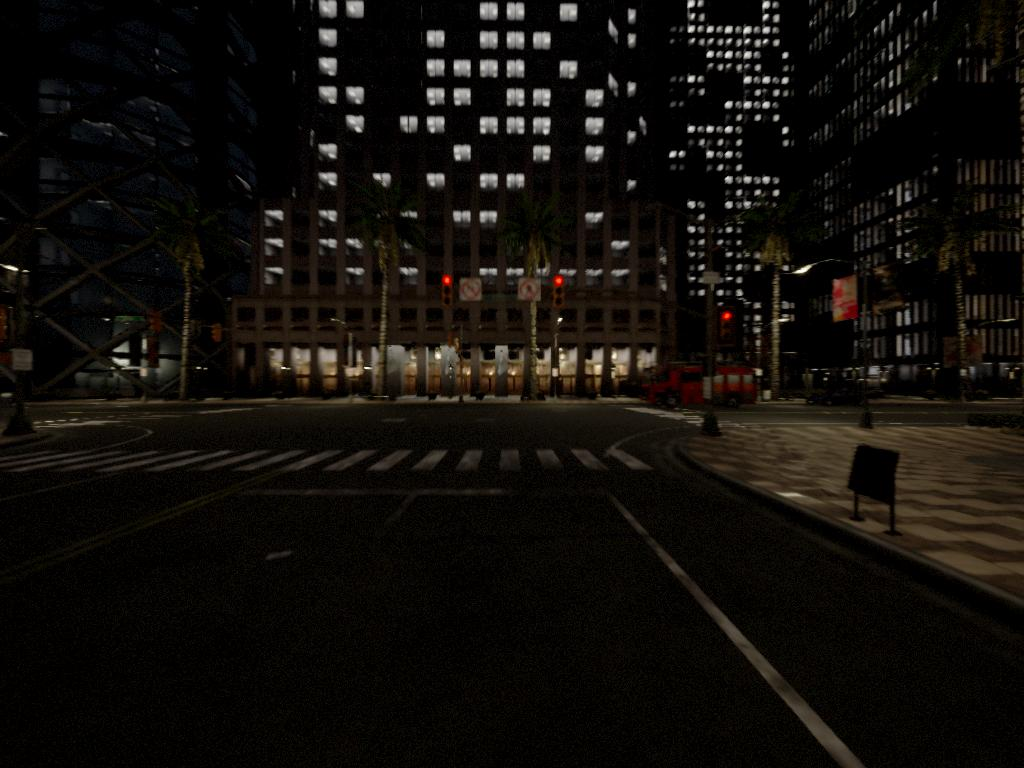traffic_light: (716, 305, 742, 346), (553, 277, 567, 305), (441, 277, 455, 304)
